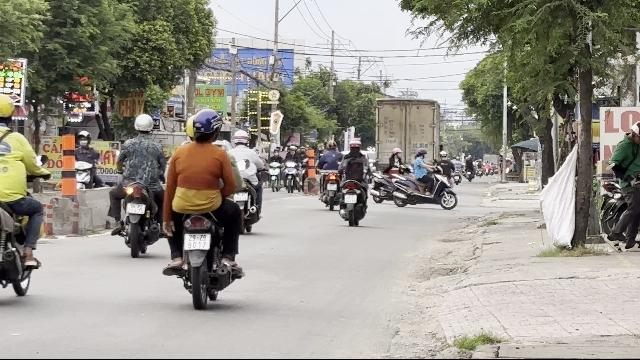helmet: (188, 108, 224, 142), (133, 113, 155, 135), (232, 129, 250, 147)
licenseplate: (184, 234, 210, 250), (127, 203, 145, 213), (234, 192, 246, 200)
motorcyclist: (161, 107, 247, 305), (105, 112, 167, 255), (227, 128, 265, 234)
